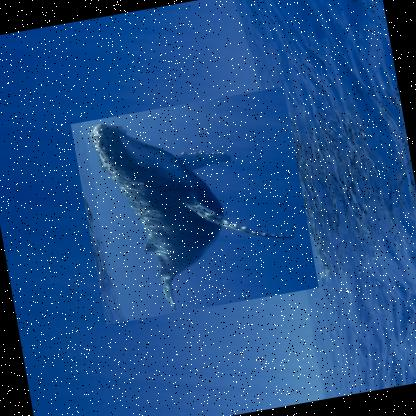blue_whale: (69, 84, 318, 324)
